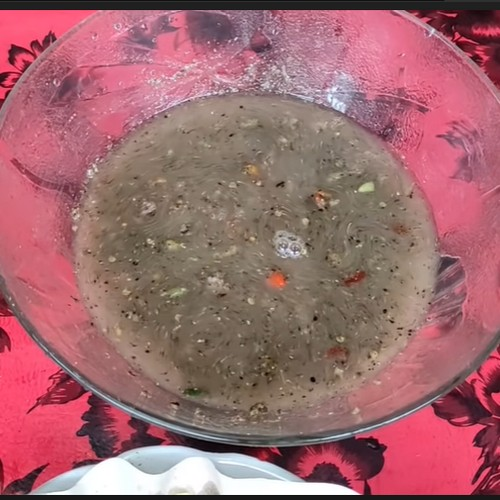komoh: (86, 72, 432, 401)
